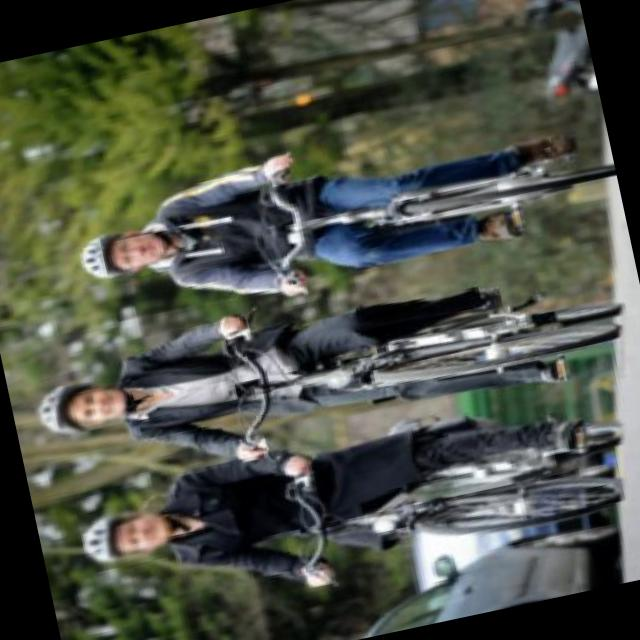With Helmet: (77, 499, 173, 572), (30, 372, 127, 438), (72, 221, 168, 287)
